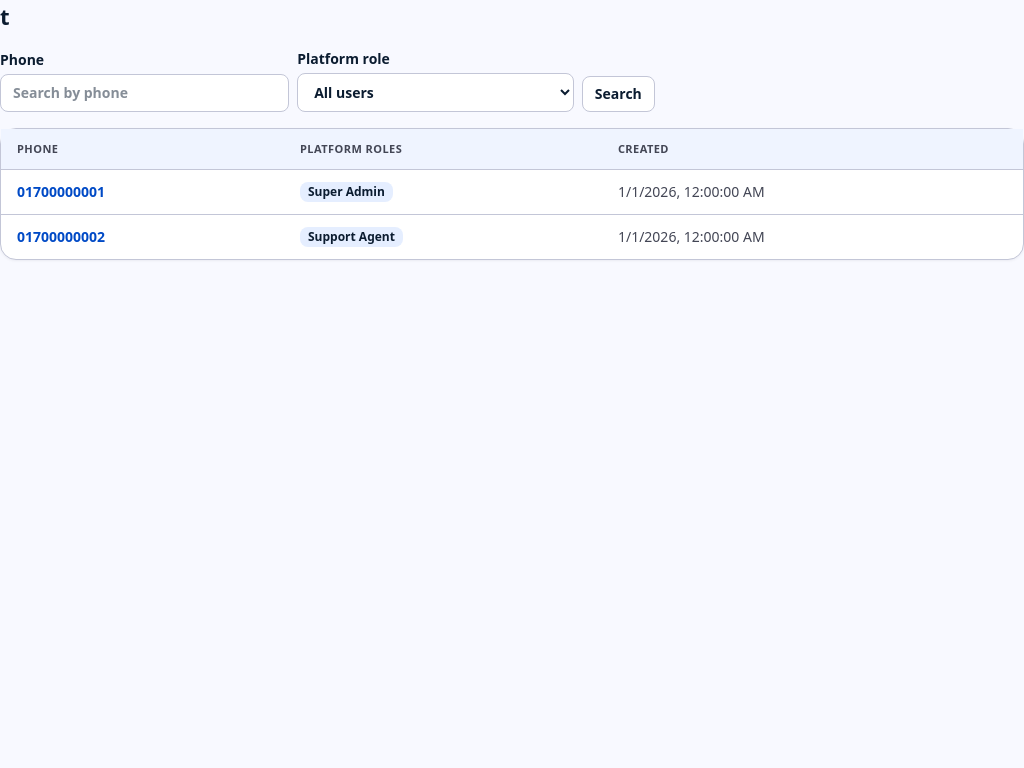
Test: UsersScreen › asks for confirmation before assigning, then shows the updated roles
This screenshot has width=1024, height=768.
Click the button "01700000002". click: click(61, 237)
box: [17,227,105,247]
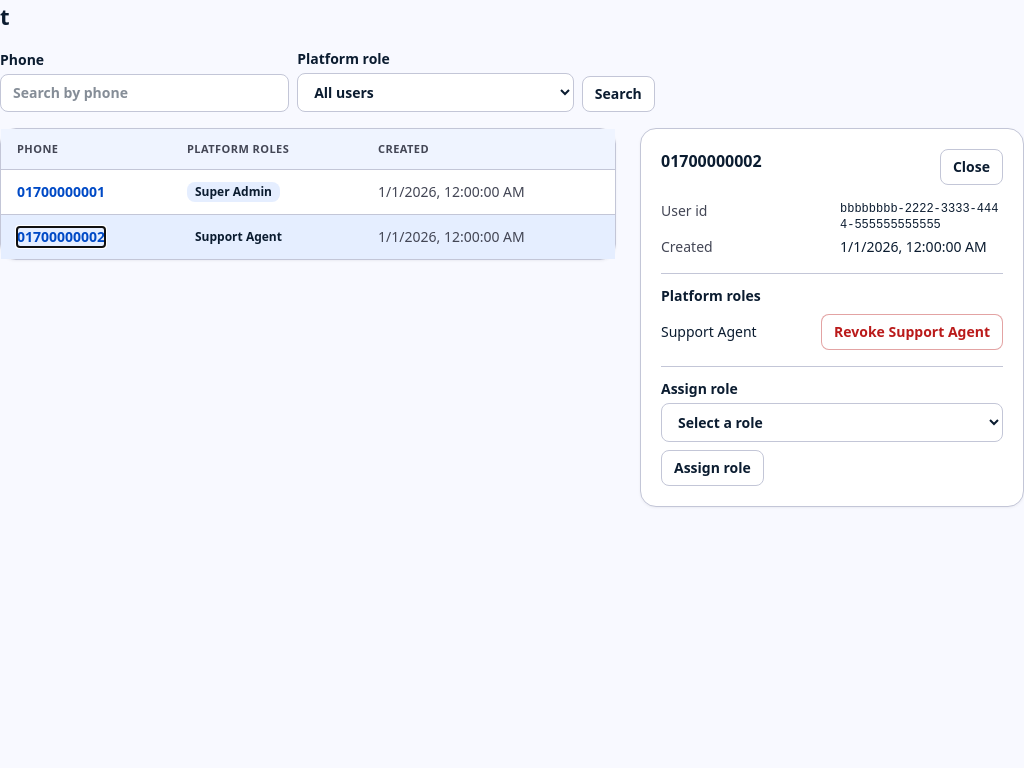
Click the button "Assign role". click: click(712, 468)
box: [661,450,764,486]
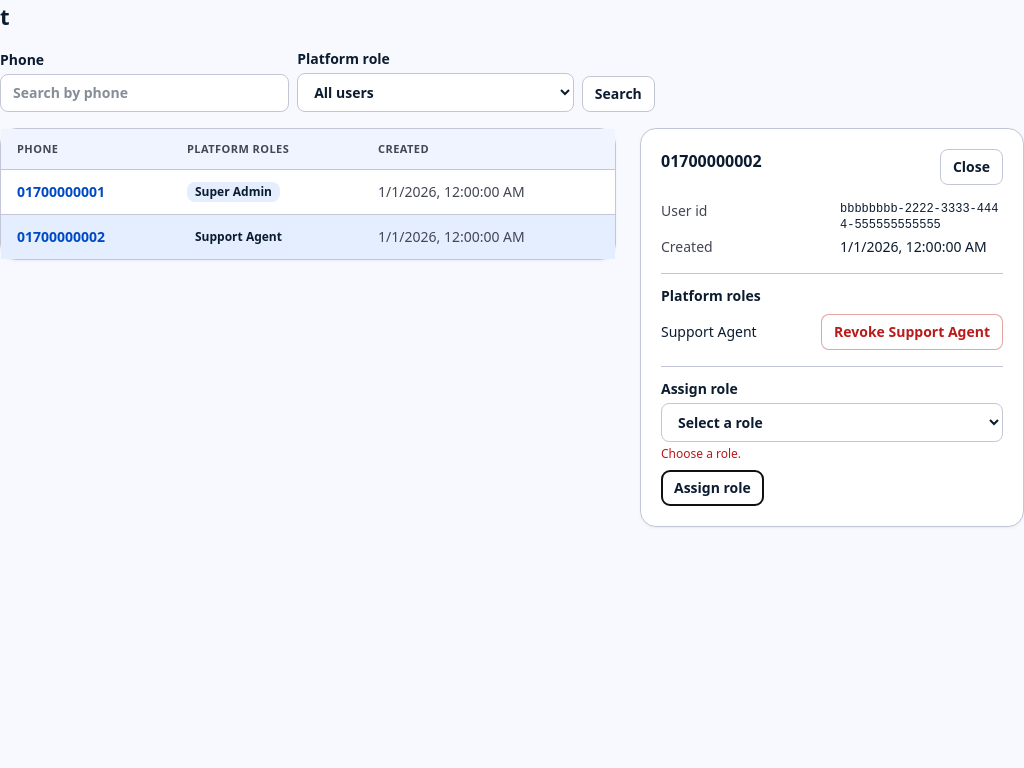
Result: the text "Choose a role." is shown at [661,445,741,462]
Select "Onboarding Agent" in the dropdown labelled "Assign role Choose a role.". click: (832, 422)
box: [661,403,1003,442]
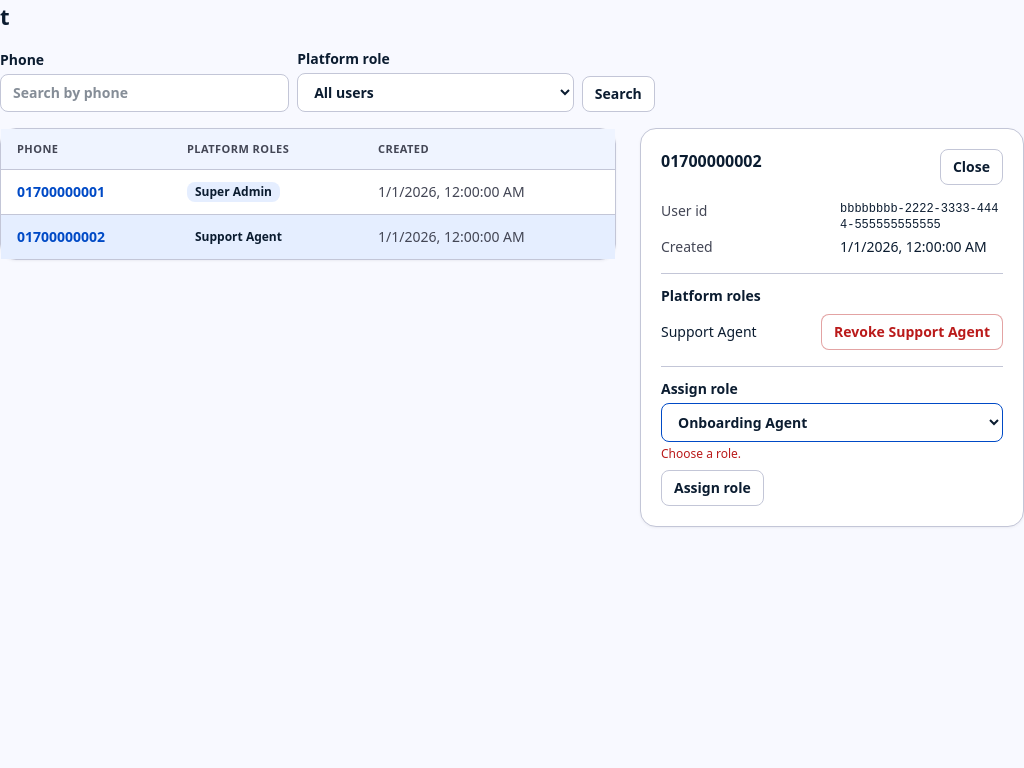
Click the button "Assign role". click: click(712, 488)
box: [661,470,764,506]
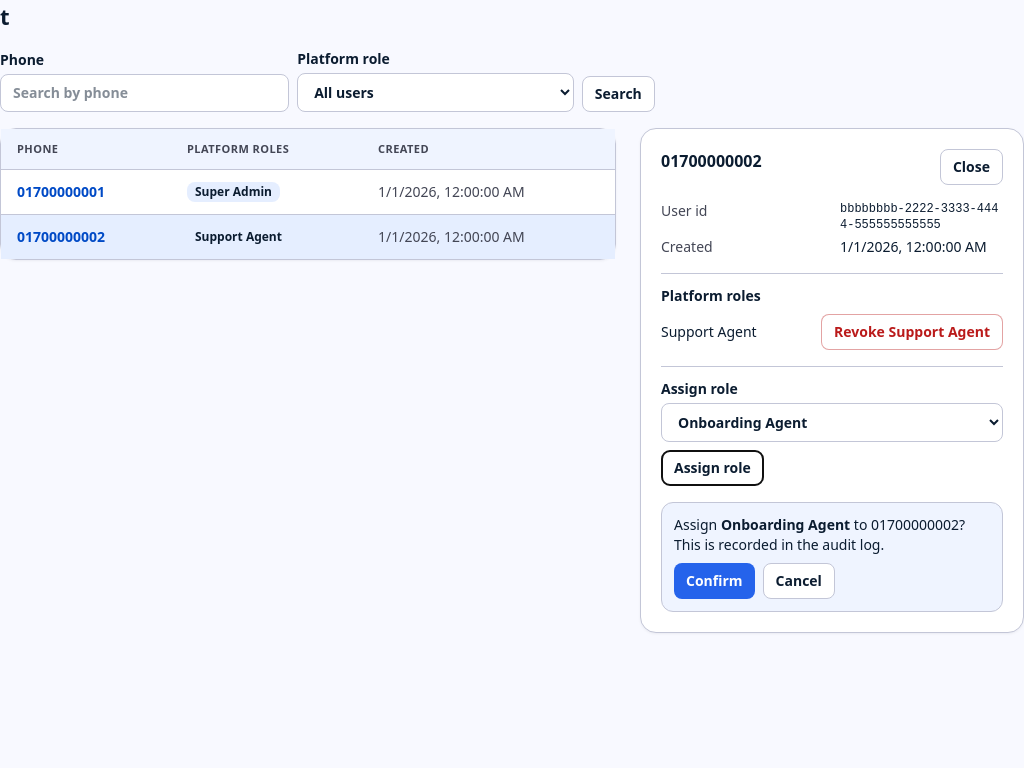
Click the button "Confirm". click: click(714, 581)
box: [674,563,755,599]
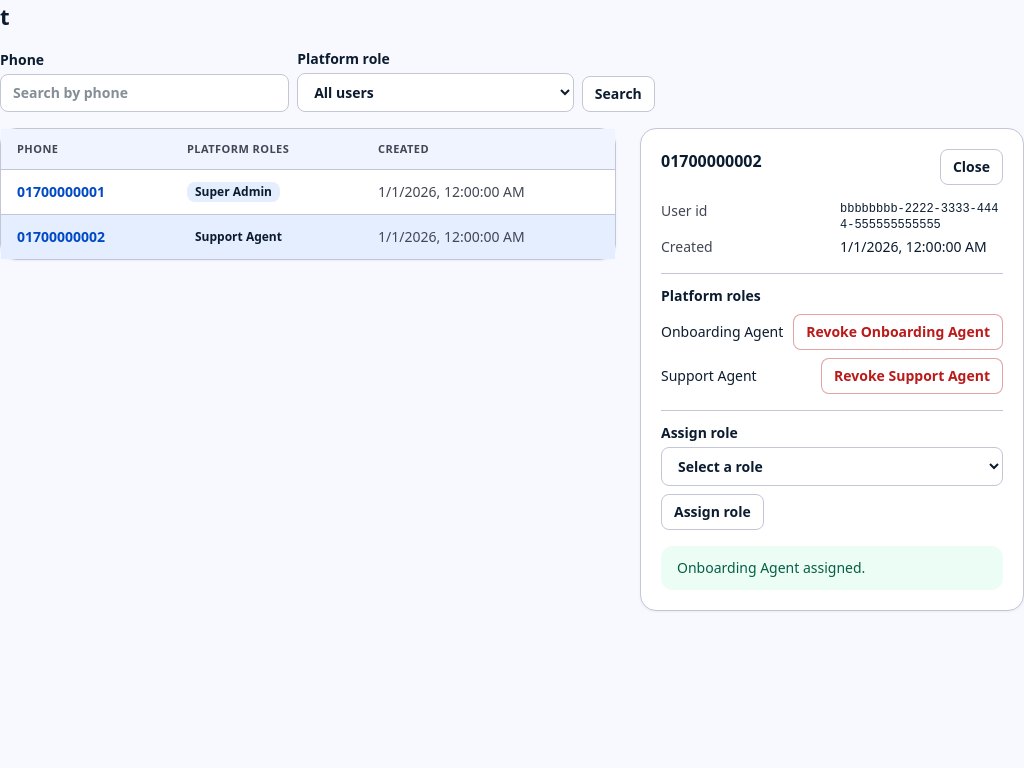
Result: the text "Onboarding Agent assigned." is shown at [661,546,1003,590]
